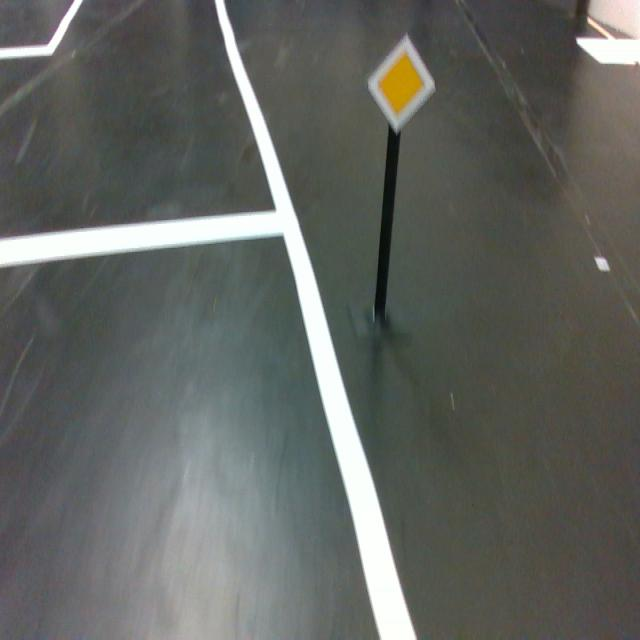priority-sign: (365, 30, 438, 136)
